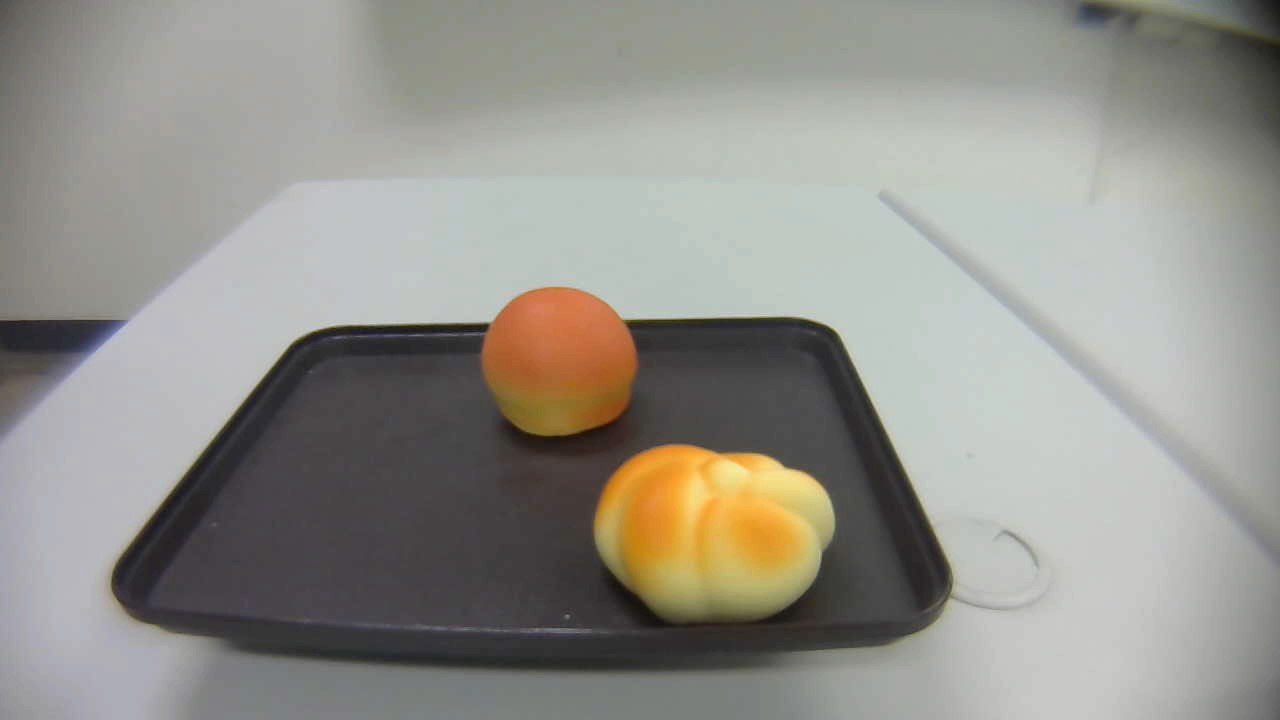bun: (482, 287, 639, 437)
twist bread: (593, 443, 836, 622)
